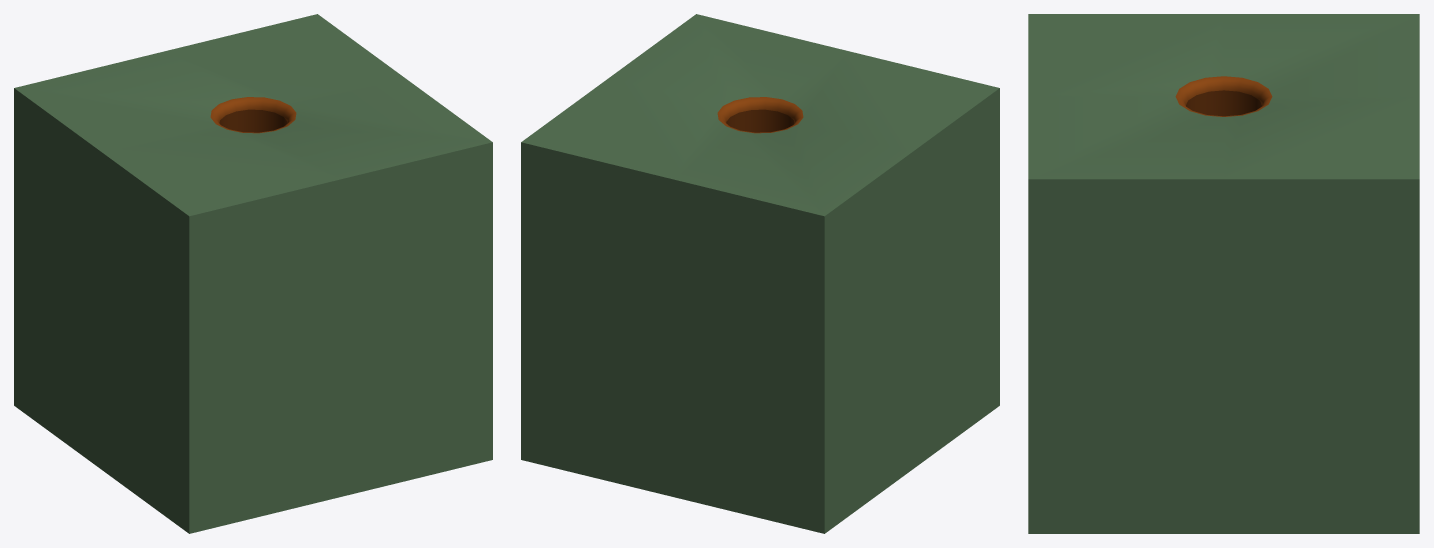
File: ball-hole-hex.glb
The picture shows the model from 3 angles, left to right: view 1: azimuth 30°, elevation 25°; view 2: azimuth 150°, elevation 25°; view 3: azimuth 270°, elevation 25°; orthographic projection. The views are drawn at different scales.
Visible parts, largest first — view 1: Cube.001; view 2: Cube.001; view 3: Cube.001.
Boxes of the visible parts, bbox=[...] form: Cube.001: bbox=[14, 14, 492, 533]; Cube.001: bbox=[521, 14, 999, 533]; Cube.001: bbox=[1028, 14, 1419, 533].
Bounding box in the file's own units: 1 × 1 × 1.
